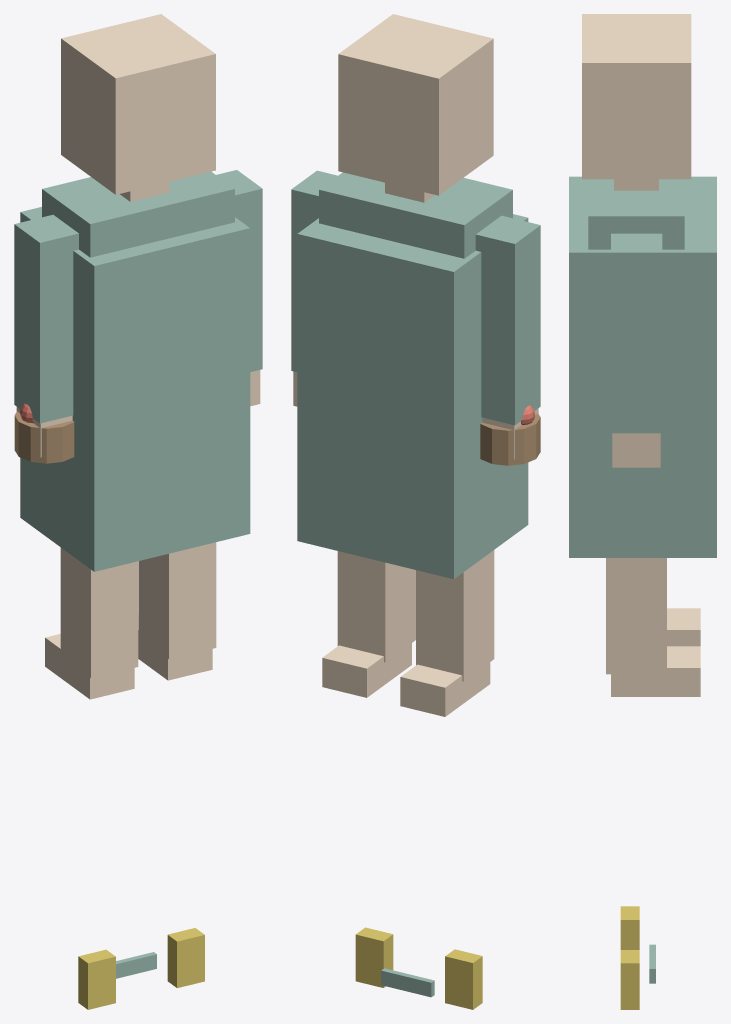
The model's file is atalanta.glb.
The picture shows the model from 3 angles, left to right: view 1: azimuth 30°, elevation 25°; view 2: azimuth 150°, elevation 25°; view 3: azimuth 270°, elevation 25°; orthographic projection.
Parts seen in each view (by area): view 1: outfit_tunic_0, head, arm_L_upper, torso, leg_L_shin, leg_R_shin, arm_R_upper, prop, leg_L_foot, outfit_sandals_0, outfit_sandals_1, leg_R_foot (+1 smaller); view 2: outfit_tunic_0, head, arm_L_upper, torso, leg_L_shin, leg_R_shin, leg_L_foot, leg_R_foot, prop, arm_R_upper, outfit_sandals_0, outfit_sandals_1 (+1 smaller); view 3: outfit_tunic_0, head, arm_R_upper, leg_R_shin, torso, leg_R_foot, arm_R_hand, leg_L_foot, outfit_sandals_1, outfit_sandals_0, neck.
Part boxes in pixels (left/top/right/bottom): outfit_tunic_0: left=20, top=207, right=250, bottom=571; head: left=61, top=14, right=215, bottom=194; arm_L_upper: left=14, top=214, right=78, bottom=423; torso: left=42, top=171, right=234, bottom=257; leg_L_shin: left=60, top=547, right=138, bottom=678; leg_R_shin: left=138, top=542, right=216, bottom=659; arm_R_upper: left=216, top=170, right=262, bottom=371; prop: left=14, top=403, right=74, bottom=463; leg_L_foot: left=45, top=634, right=134, bottom=699; outfit_sandals_0: left=78, top=949, right=115, bottom=1009; outfit_sandals_1: left=167, top=928, right=204, bottom=988; leg_R_foot: left=138, top=615, right=212, bottom=680; outfit_tunic_0: left=297, top=214, right=528, bottom=579; head: left=338, top=14, right=493, bottom=195; arm_L_upper: left=475, top=215, right=540, bottom=425; torso: left=319, top=172, right=512, bottom=258; leg_L_shin: left=416, top=550, right=494, bottom=681; leg_R_shin: left=337, top=551, right=415, bottom=662; leg_L_foot: left=400, top=662, right=490, bottom=716; leg_R_foot: left=322, top=643, right=411, bottom=697; prop: left=480, top=405, right=540, bottom=465; arm_R_upper: left=291, top=170, right=337, bottom=372; outfit_sandals_0: left=445, top=949, right=482, bottom=1009; outfit_sandals_1: left=355, top=927, right=393, bottom=987; outfit_tunic_0: left=569, top=176, right=716, bottom=557; head: left=582, top=14, right=691, bottom=179; arm_R_upper: left=611, top=233, right=662, bottom=433; leg_R_shin: left=606, top=558, right=666, bottom=674; torso: left=588, top=179, right=684, bottom=249; leg_R_foot: left=611, top=646, right=700, bottom=696; arm_R_hand: left=612, top=433, right=660, bottom=467; leg_L_foot: left=667, top=608, right=700, bottom=646; outfit_sandals_1: left=620, top=950, right=639, bottom=1009; outfit_sandals_0: left=620, top=906, right=639, bottom=949; neck: left=614, top=179, right=658, bottom=190.
Bounding box in the file's own units: 0.83 × 3.24 × 0.46.
